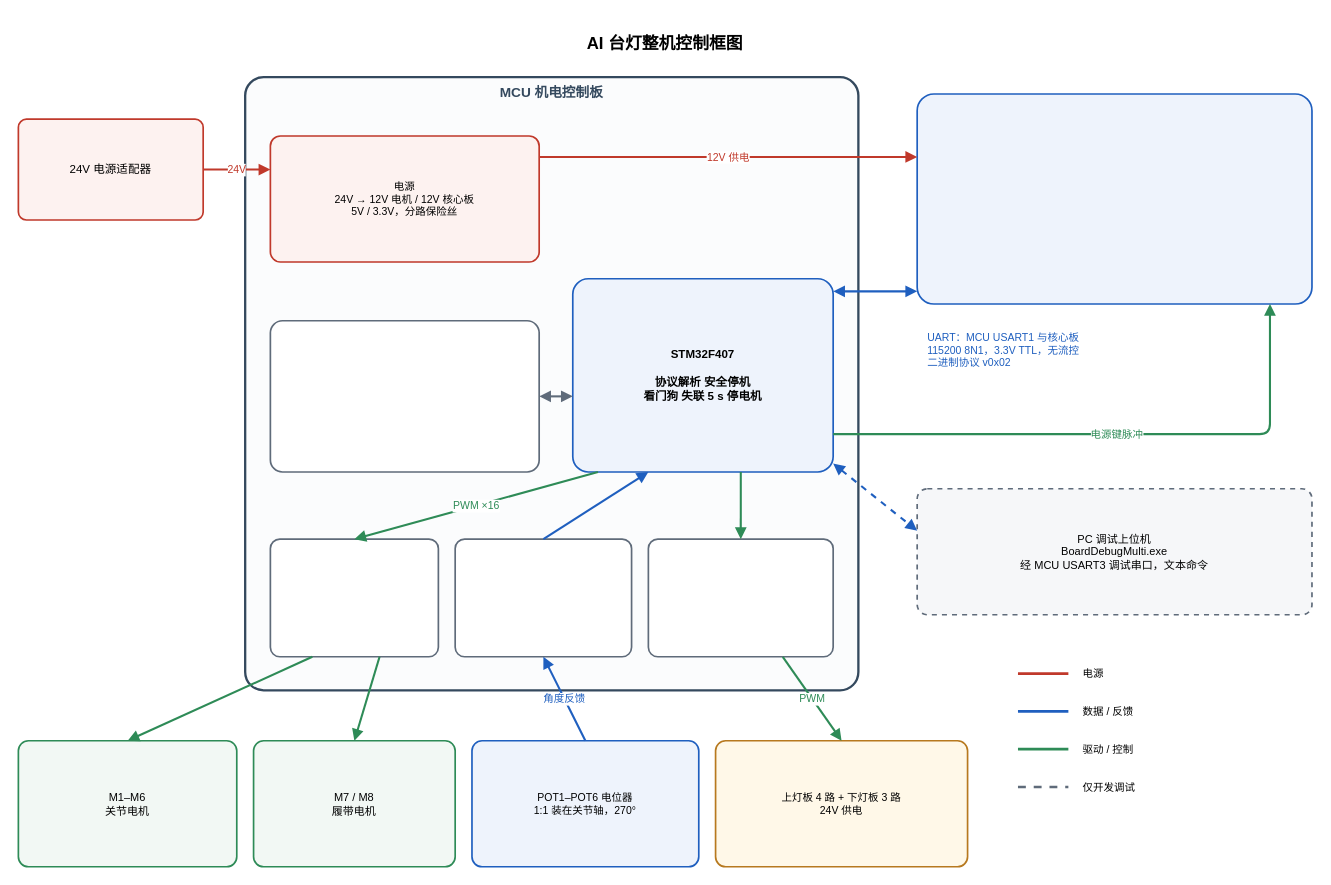
The diagram is 1331 pixels wide and 885 high, and some of its shapes have lost their labels. Here are the shapes that lost their labels. From the top down, the centre of each, then its label:
At pixel 1114 198: "安卓 / Linux 核心板 RK3566 App + robot-sdk 不直接驱动电机、灯和传感器".
At pixel 404 395: "蜂鸣器 4 个状态灯 HOME 按键".
At pixel 354 597: "8 路 H 桥 RZ7899".
At pixel 543 597: "6 路 ADC".
At pixel 740 597: "7 路灯光 PWM".
